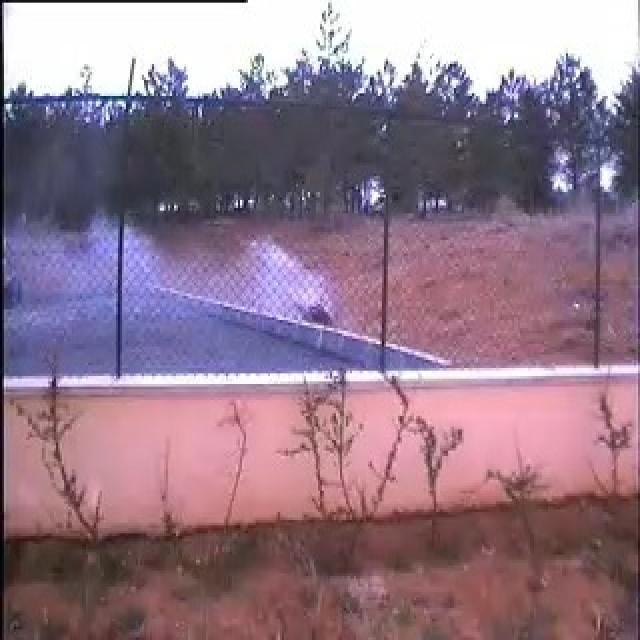Smoke: (58, 184, 342, 360)
